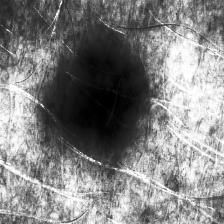Benign Marking or Mole: (51, 42, 146, 148)
